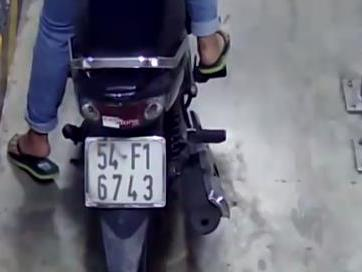num_plate: (84, 136, 167, 207)
